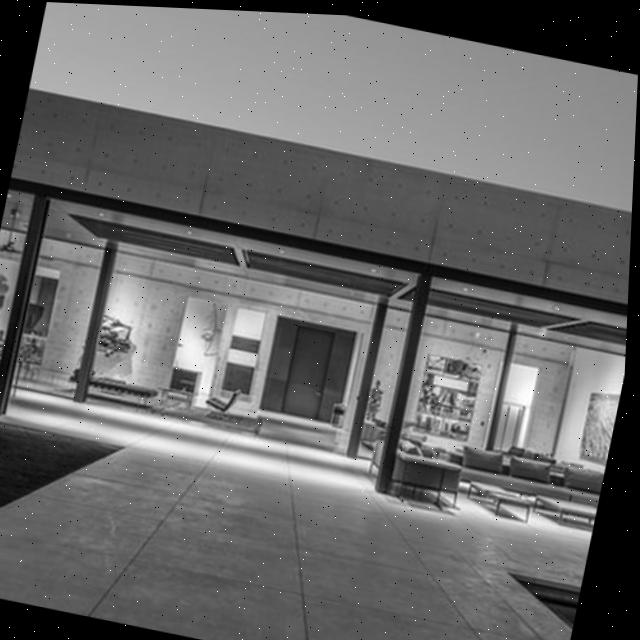building: (0, 86, 636, 507)
